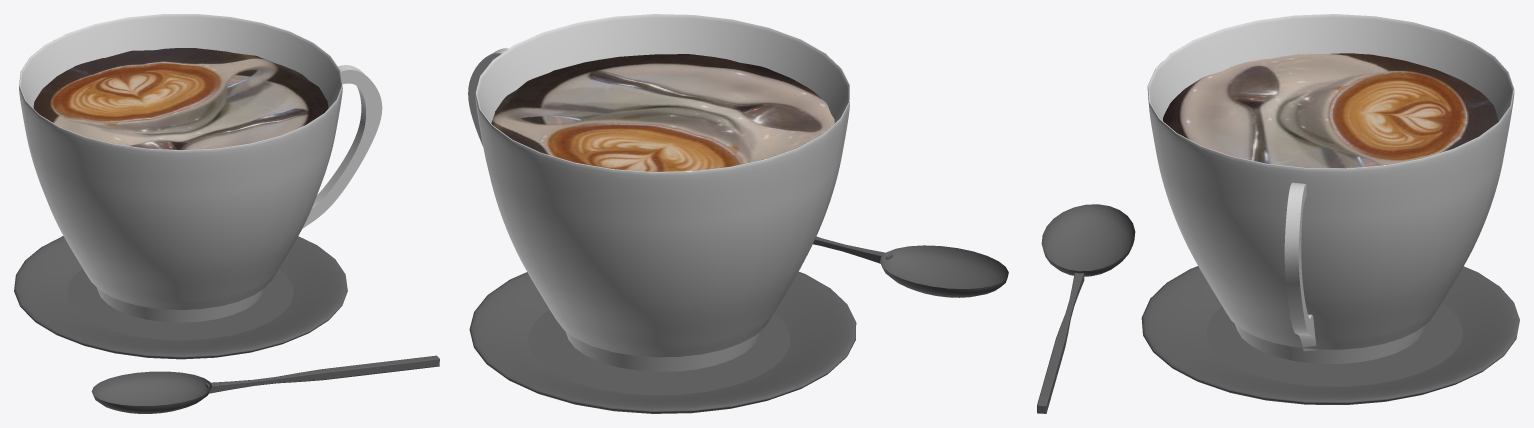
File: koffie.dae
3 renders of one model, left to right at view 1: azimuth 30°, elevation 25°; view 2: azimuth 150°, elevation 25°; view 3: azimuth 270°, elevation 25°, orthographic. The views are drawn at different scales.
Parts seen in each view (by area): view 1: Loft, Disc, Loft_2, Connect, Cap_1, Cap_11, Loft_1; view 2: Loft, Disc, Loft_2, Cap_1, Connect, Cap_21; view 3: Loft, Disc, Loft_2, Cap_1, Connect, Loft_1, Cap_21.
Part boxes in pixels (x1,y1,x2,y2): Loft: (19, 14, 342, 322); Disc: (33, 48, 328, 149); Loft_2: (14, 236, 347, 359); Connect: (91, 355, 439, 413); Cap_1: (67, 268, 293, 340); Cap_11: (302, 70, 382, 228); Loft_1: (312, 65, 367, 208); Loft: (475, 14, 849, 371); Disc: (491, 54, 834, 171); Loft_2: (469, 272, 856, 413); Cap_1: (528, 310, 790, 395); Connect: (813, 236, 1008, 297); Cap_21: (468, 53, 501, 145); Loft: (1147, 14, 1514, 363); Disc: (1163, 53, 1498, 168); Loft_2: (1141, 266, 1519, 404); Cap_1: (1206, 303, 1463, 386); Connect: (1037, 204, 1135, 413); Loft_1: (1284, 182, 1316, 351); Cap_21: (1298, 184, 1315, 343).
Bounding box in the file's own units: 103 × 102 × 58.97.
Materials: 3 (1 with a texture image).
